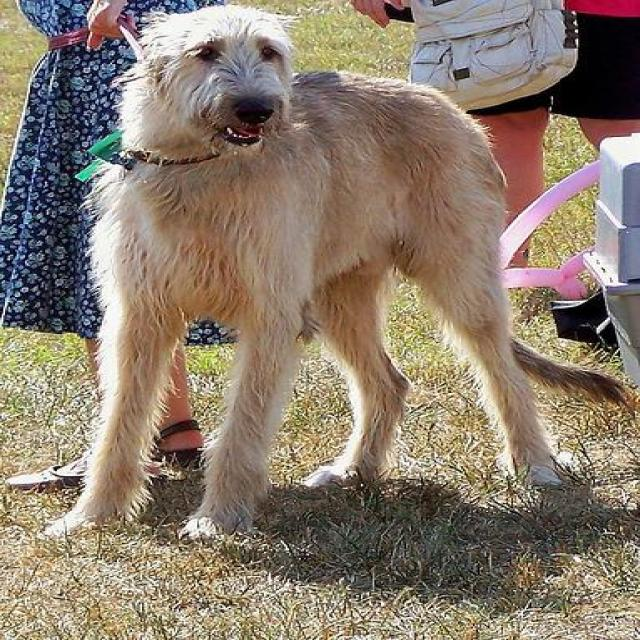irish_wolfhound: (37, 1, 560, 535)
